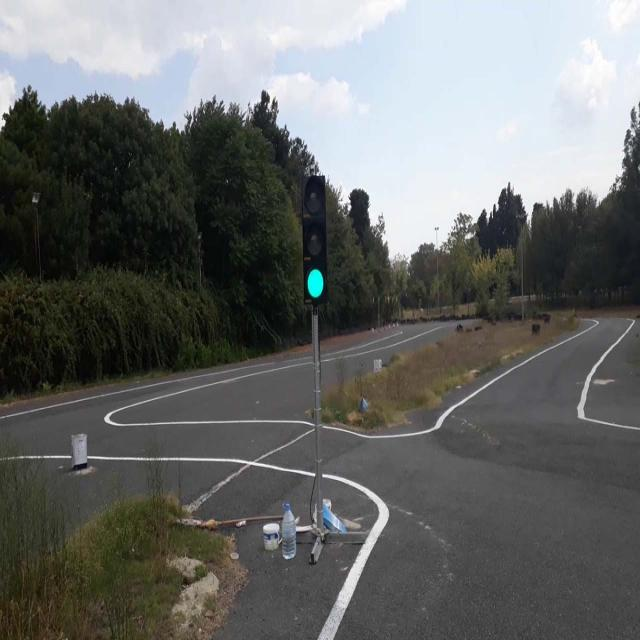yesil: (301, 174, 327, 302)
